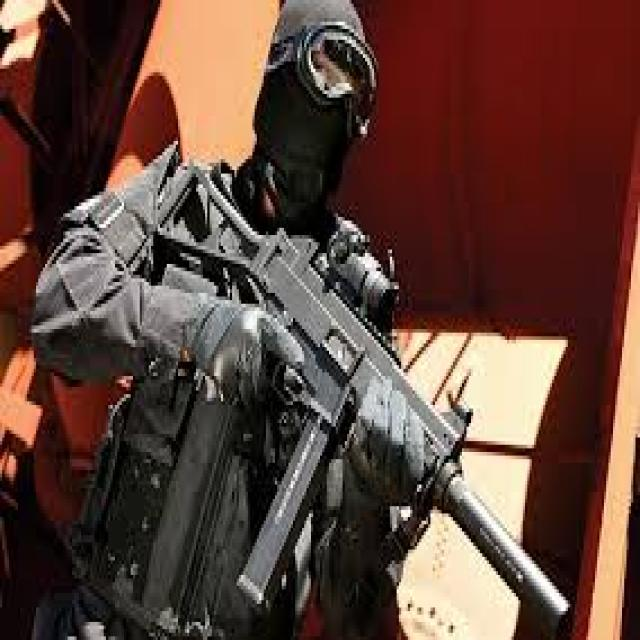Gun: (155, 144, 579, 640)
